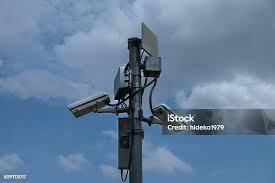Speed-Camera: (146, 99, 201, 132), (63, 86, 113, 121)
